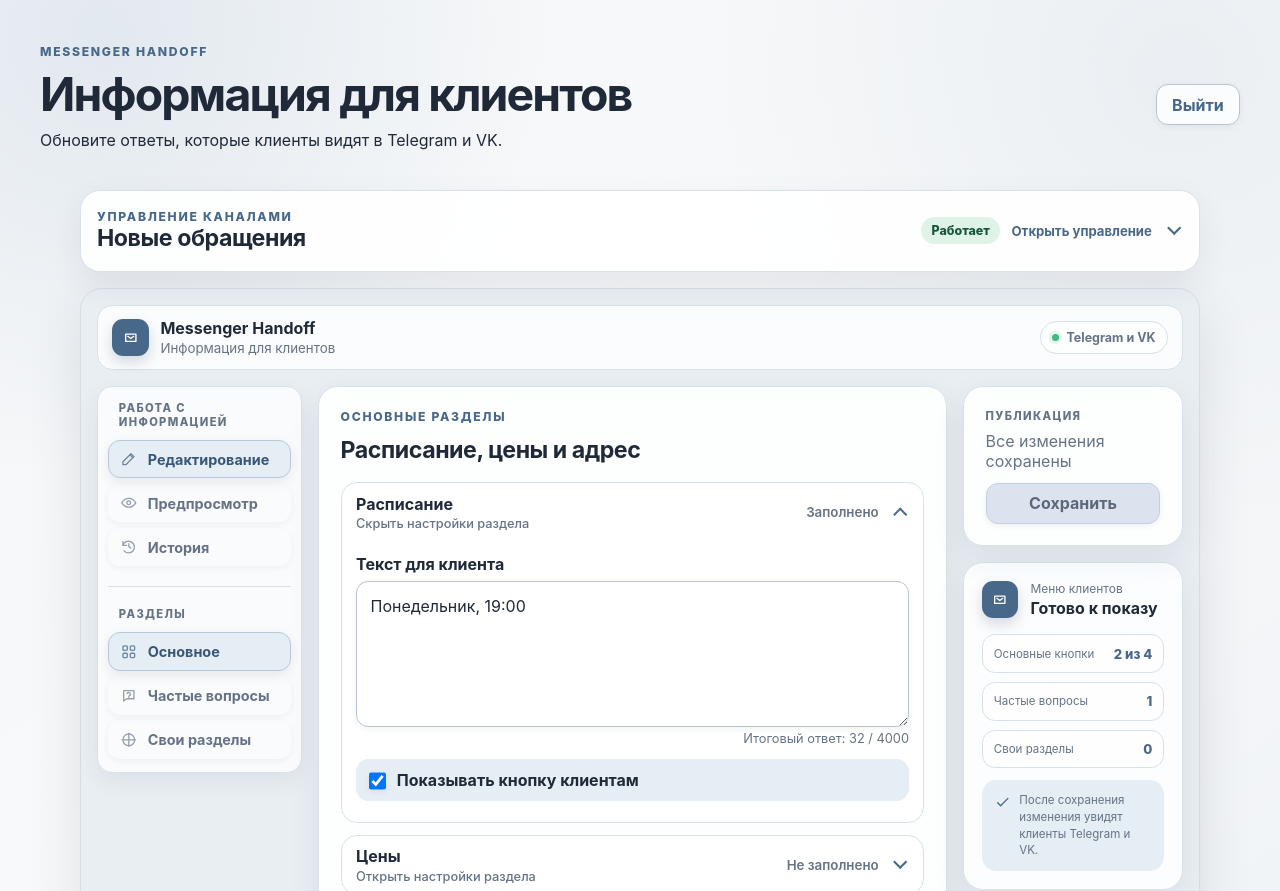
Scenario: ContentManagementPage › loads structured content and exposes an unsaved-change state
This screenshot has width=1280, height=891.
Expected: the text box labelled "Текст для клиента" holds "Понедельник, 19:00", left=356, top=581, right=909, bottom=727
Expected: the text "Как записаться?" is not shown
Click the button "Частые вопросы": click(200, 696) left=108, top=676, right=291, bottom=715
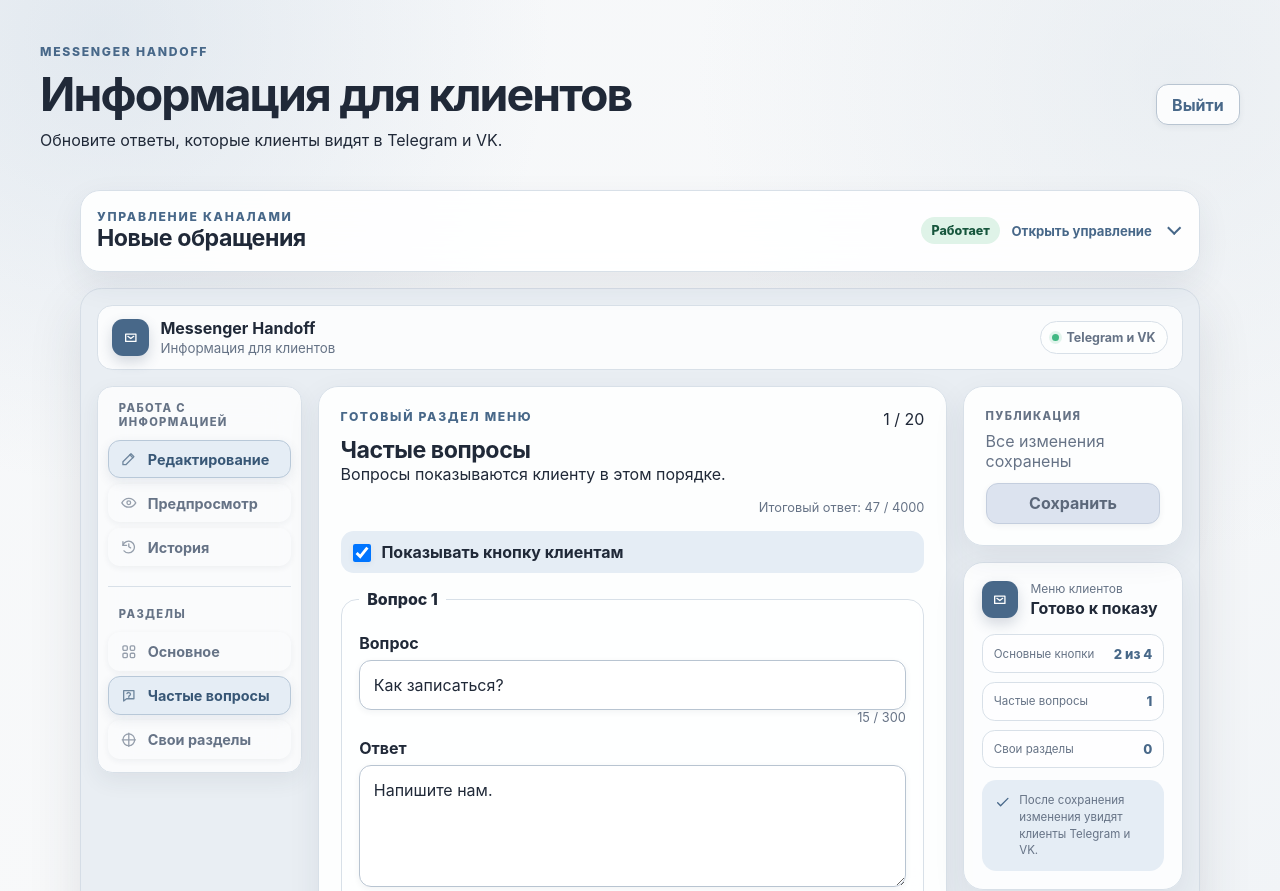
Result: the field with id "faq-question-0" holds "Как записаться?" at left=359, top=660, right=906, bottom=710
Click the button "Основное": click(200, 652) left=108, top=632, right=291, bottom=671
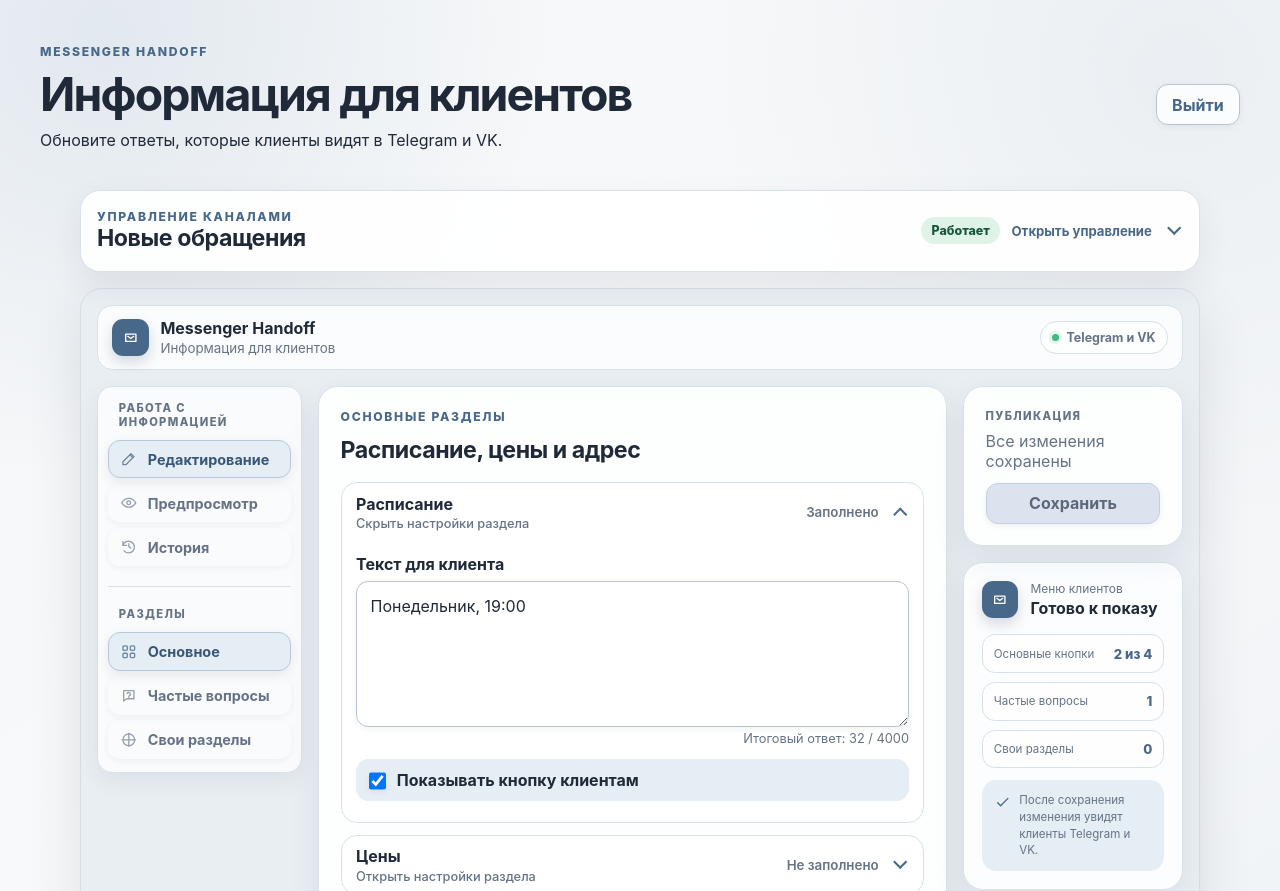
Replace the text in the text box labelled "Текст для клиента" with "Вторник, 20:00": (632, 654) left=356, top=581, right=909, bottom=727
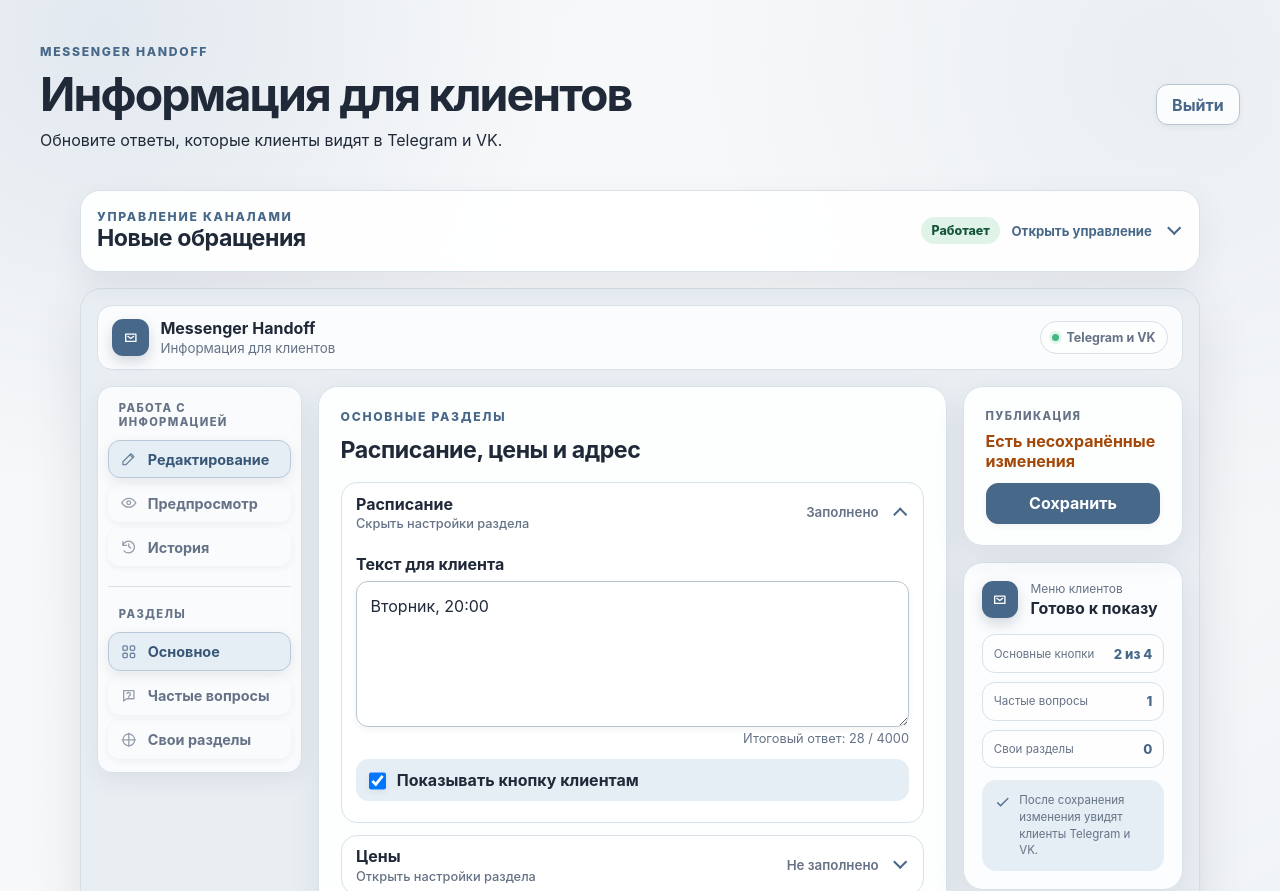
Click the button "Предпросмотр": click(200, 503) left=108, top=484, right=291, bottom=522
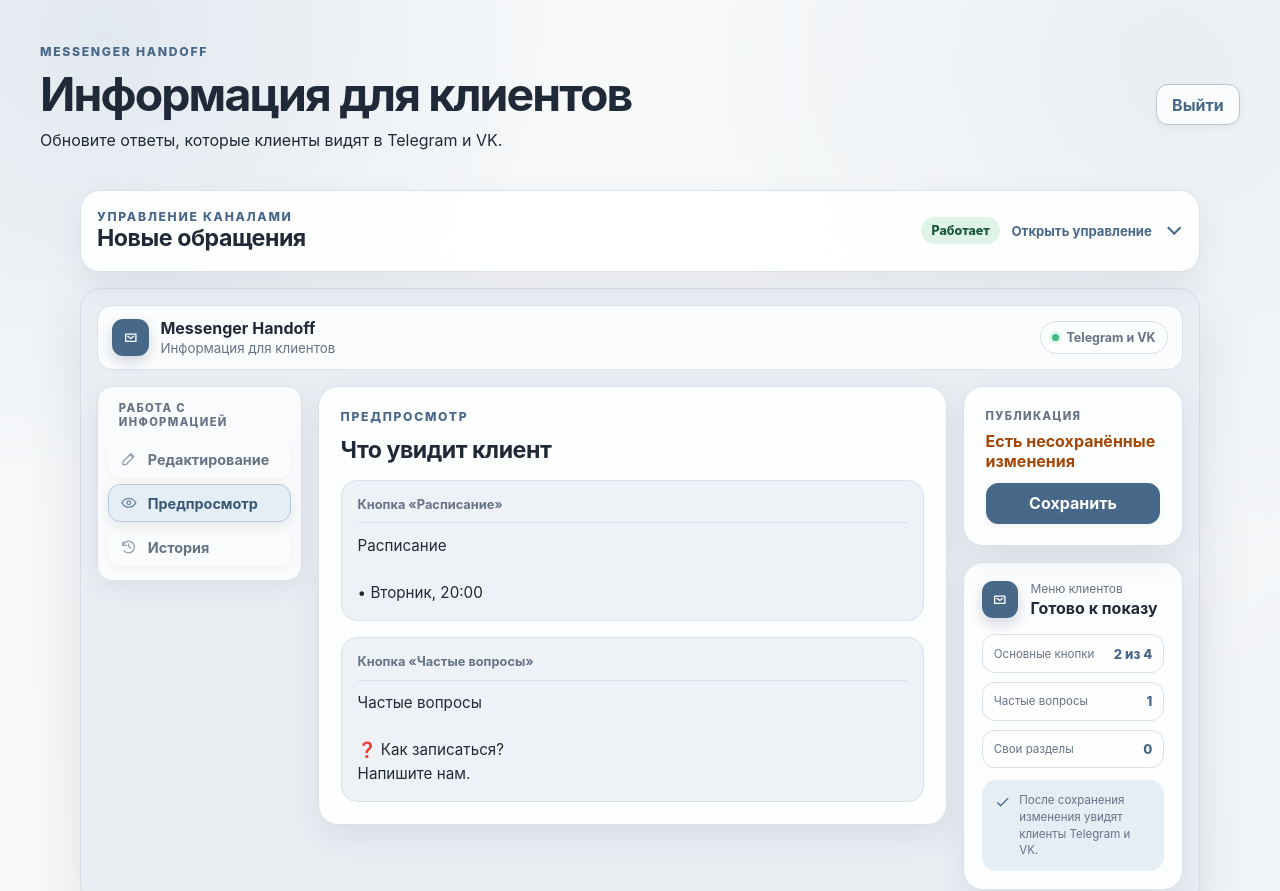
Result: the text "Есть несохранённые изменения" is shown at left=986, top=431, right=1160, bottom=471
Result: the text "Вторник, 20:00" is shown at left=358, top=536, right=483, bottom=602
